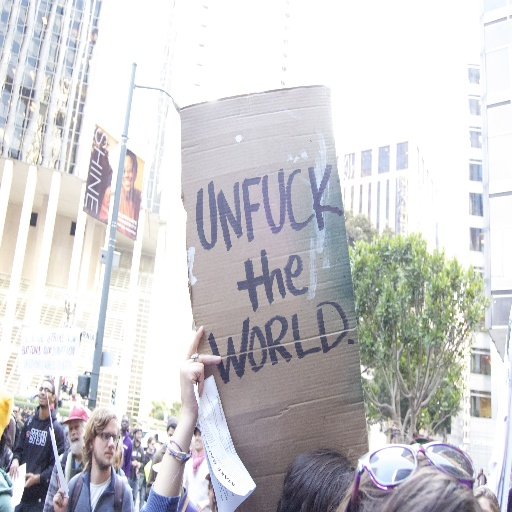hand: (155, 323, 209, 493), (51, 471, 68, 511), (8, 459, 19, 481), (24, 471, 35, 489)
